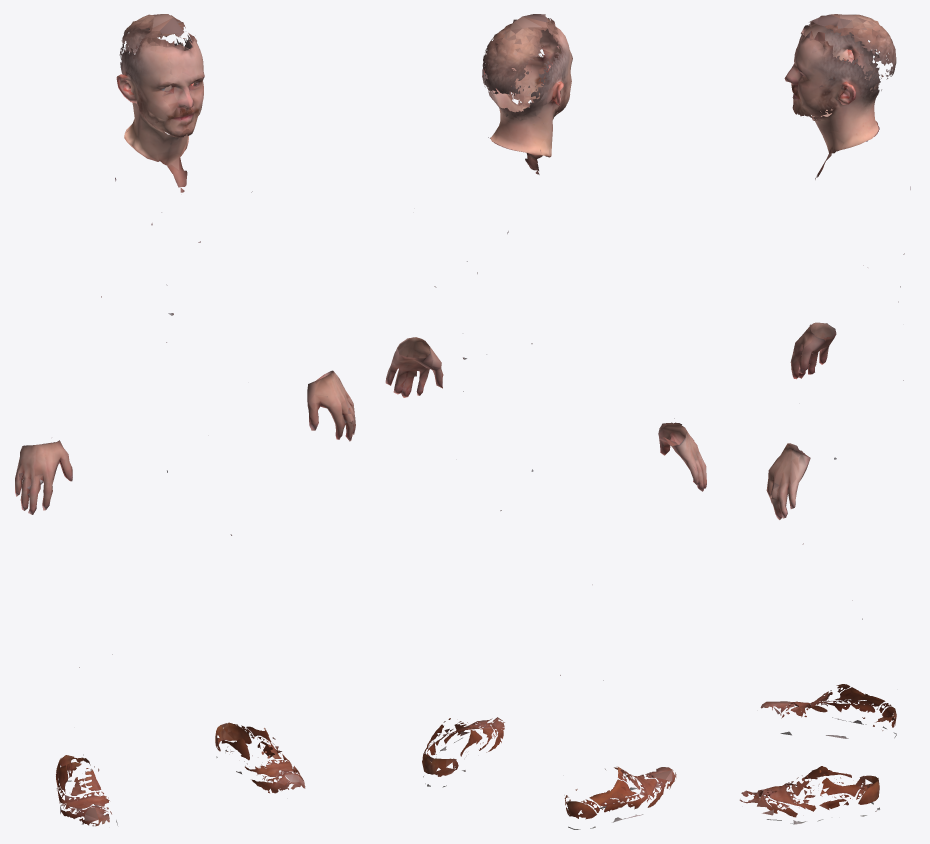
File: eccomidec.fbx
3 views of the same model, side by side, from view 1: azimuth 30°, elevation 25°; view 2: azimuth 150°, elevation 25°; view 3: azimuth 270°, elevation 25° (orthographic). The views are drawn at different scales.
Parts seen in each view (by area): view 1: meshNode; view 2: meshNode; view 3: meshNode.
Boxes of the visible parts, <box> form: meshNode: <box>15,14,355,826</box>; meshNode: <box>385,14,706,829</box>; meshNode: <box>739,14,910,824</box>.
Bounding box in the file's own units: 194 × 440 × 95.
1 material, 1 textured.
